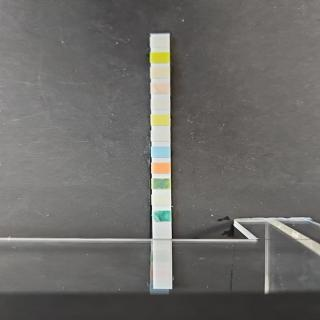mark: (150, 82, 171, 96), (150, 114, 171, 127), (150, 52, 170, 65), (152, 210, 172, 223), (150, 37, 169, 50), (151, 146, 170, 159), (150, 68, 170, 80), (150, 100, 170, 112), (151, 131, 171, 143), (151, 163, 171, 175), (151, 195, 171, 207), (151, 178, 171, 189)
